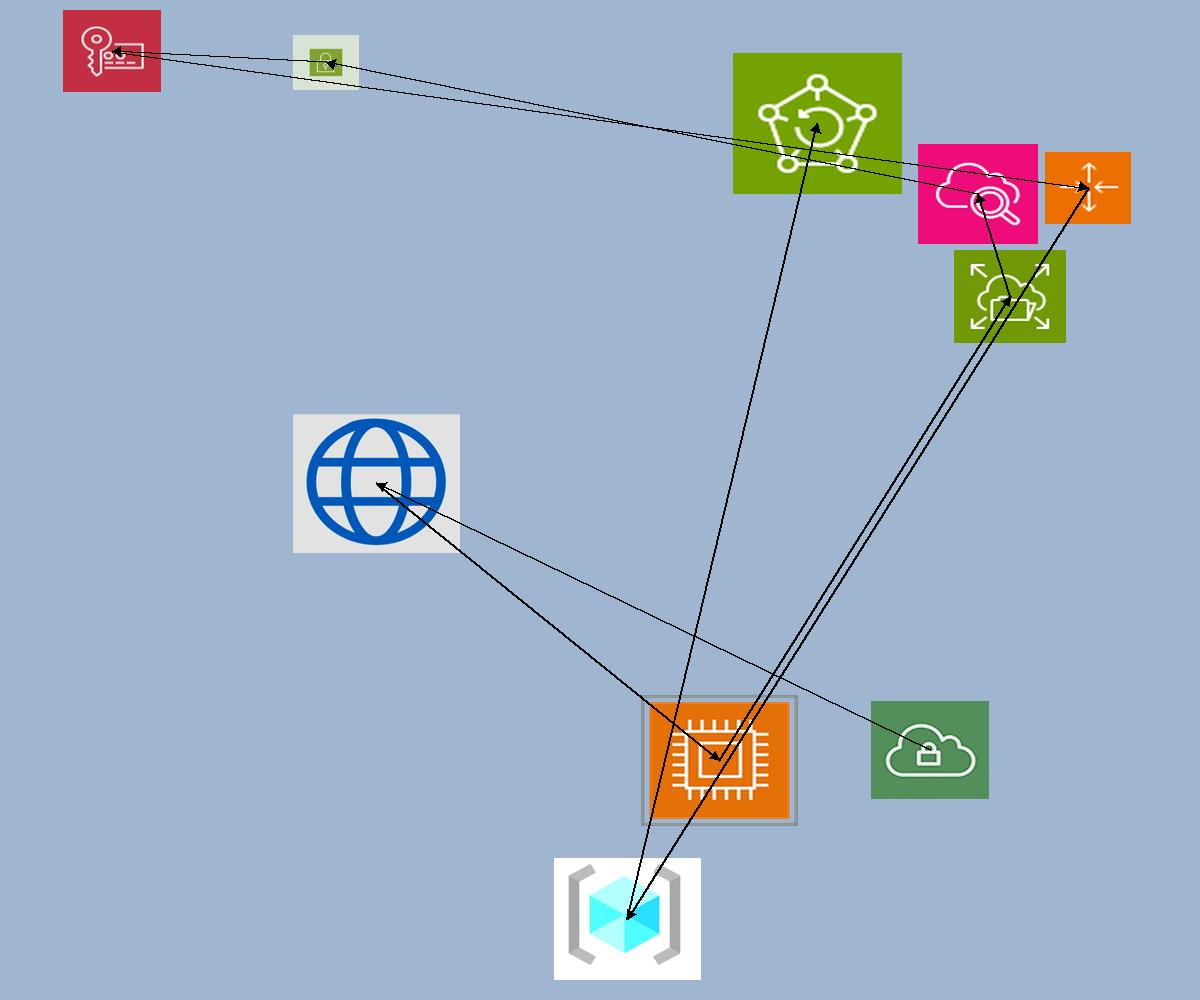AWS-Backup: (733, 53, 902, 194)
AWS-Category_Compute: (641, 695, 798, 826)
AWS-CloudWatch: (918, 144, 1038, 244)
AWS-EFS: (954, 250, 1066, 343)
AWS-Key-Management-Service: (63, 10, 161, 92)
AWS-Private_vpc: (871, 701, 989, 799)
AWS-Public-subnet: (293, 35, 359, 90)
AWS-Scaling-group: (1045, 152, 1131, 224)
Azure_http: (293, 414, 460, 553)
Azure_resource_group: (554, 858, 701, 980)
